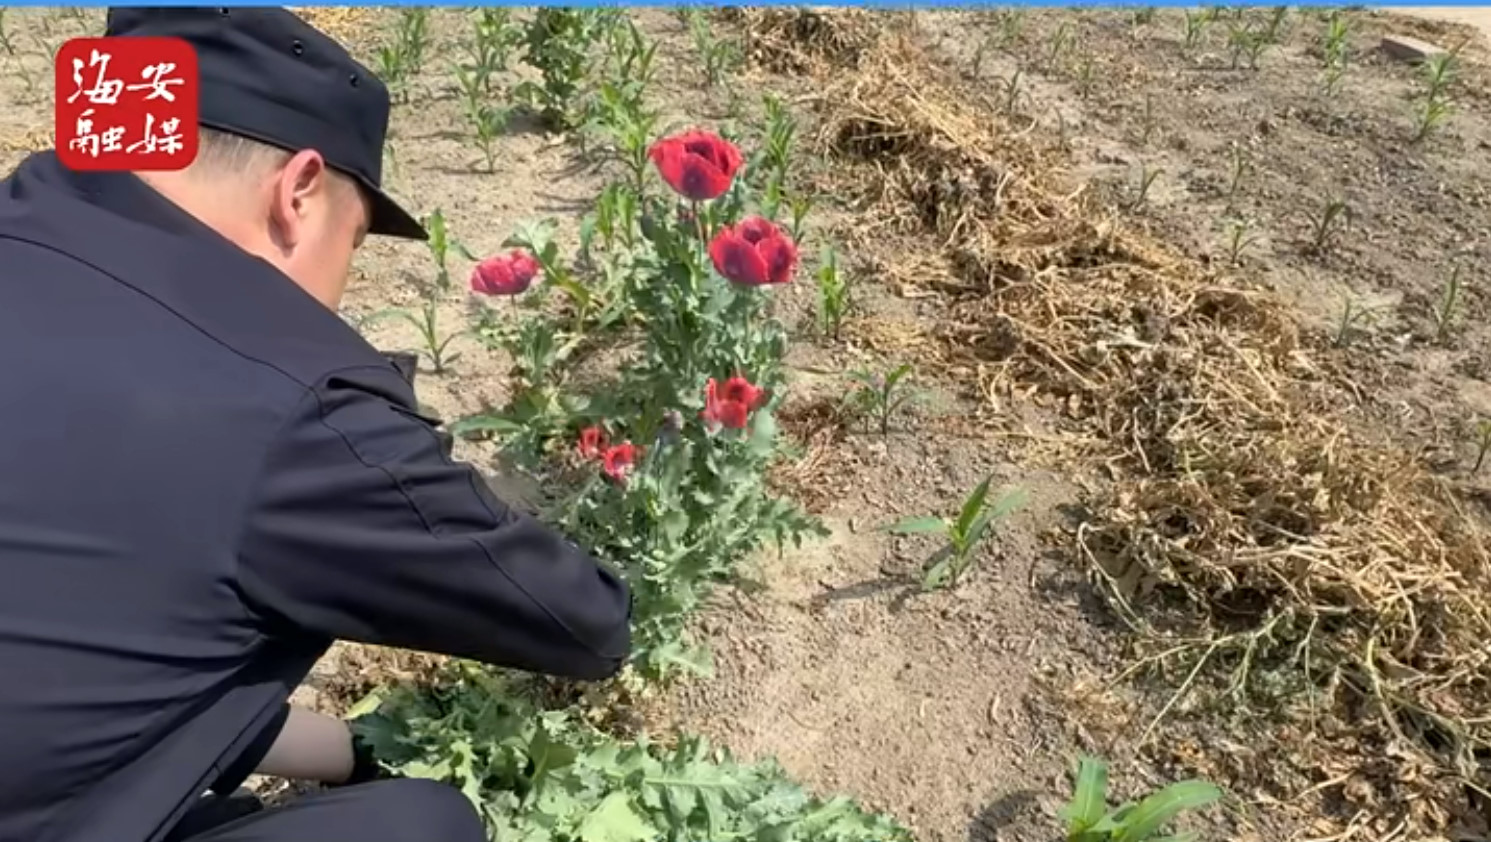Poppy: (443, 123, 838, 672)
